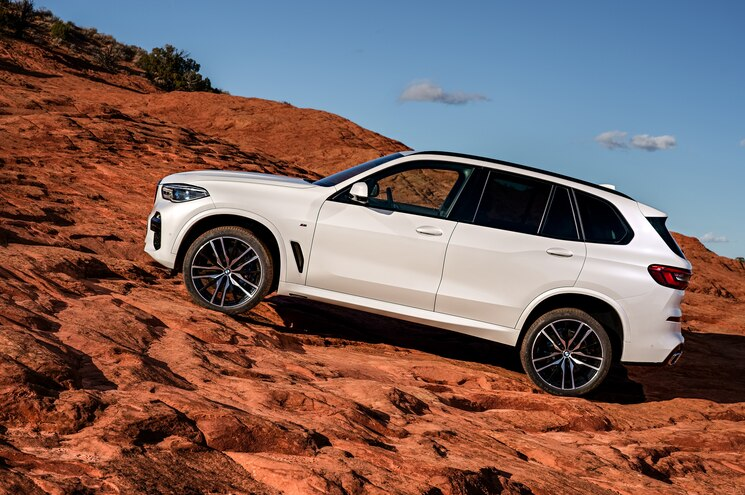bmw: (143, 137, 694, 401)
